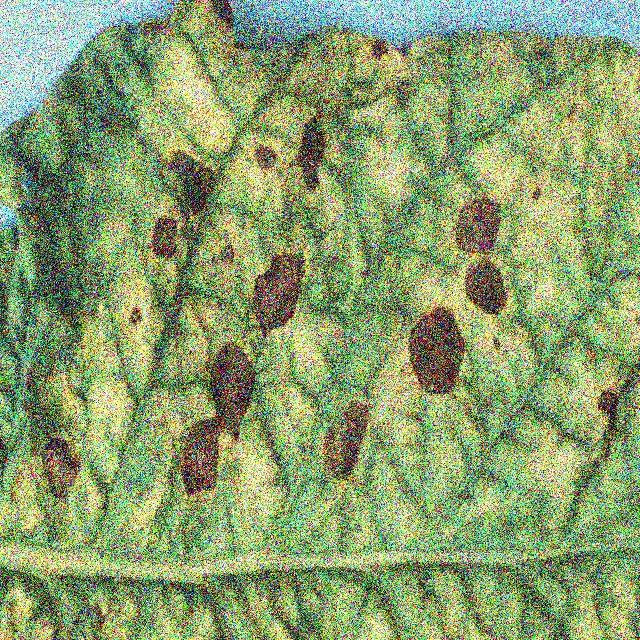leaf_spot: (44, 47, 639, 586)
